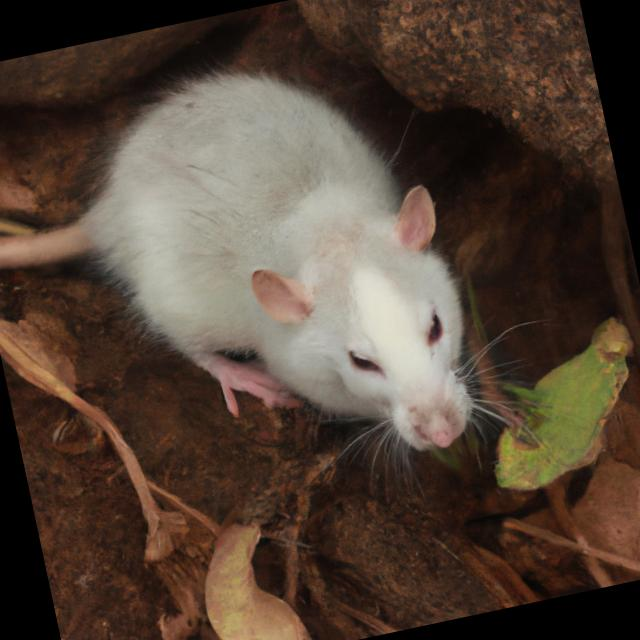rodent: (50, 7, 518, 535)
